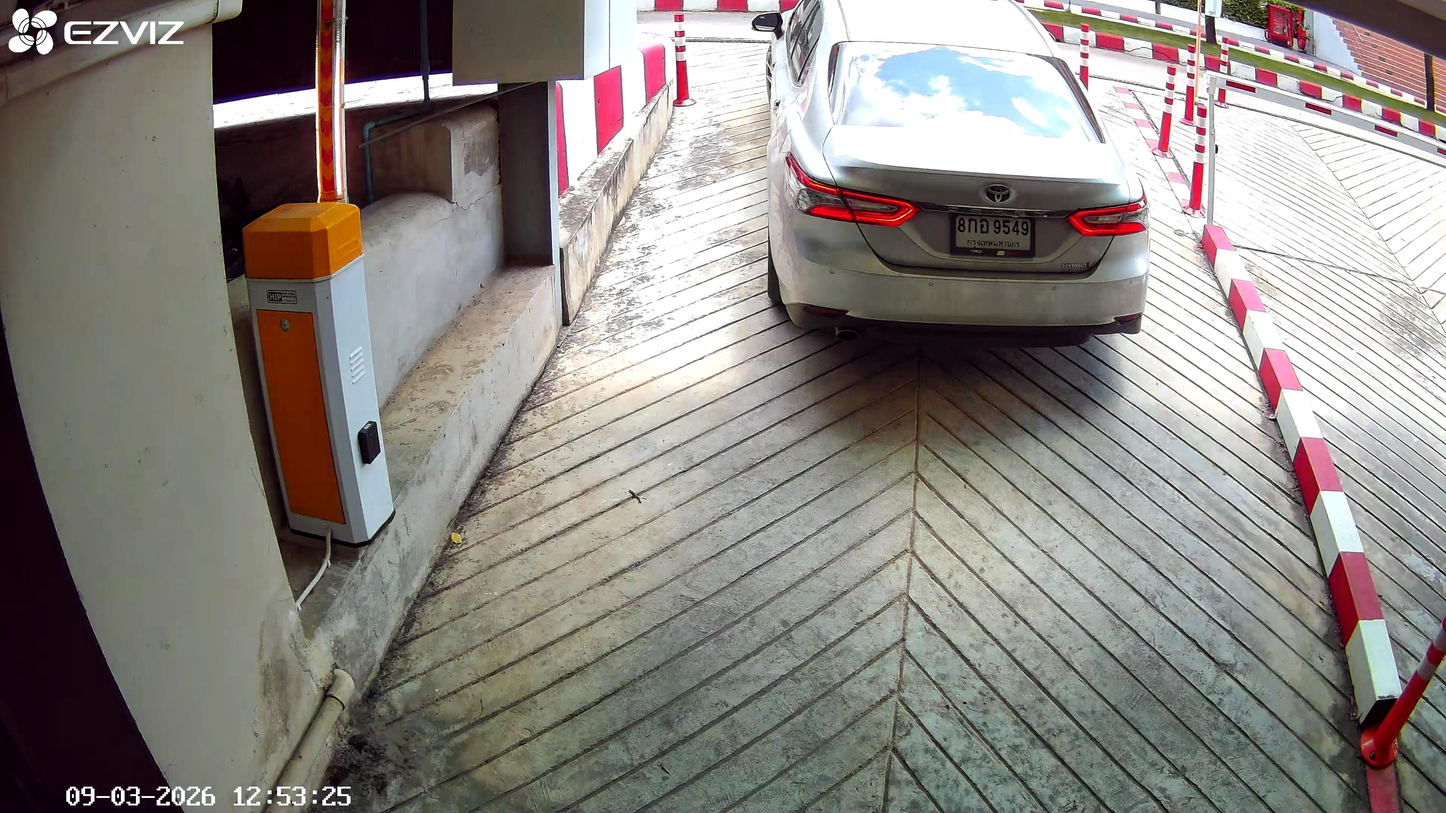car: (767, 5, 1153, 345)
license-plate: (949, 203, 1037, 257)
